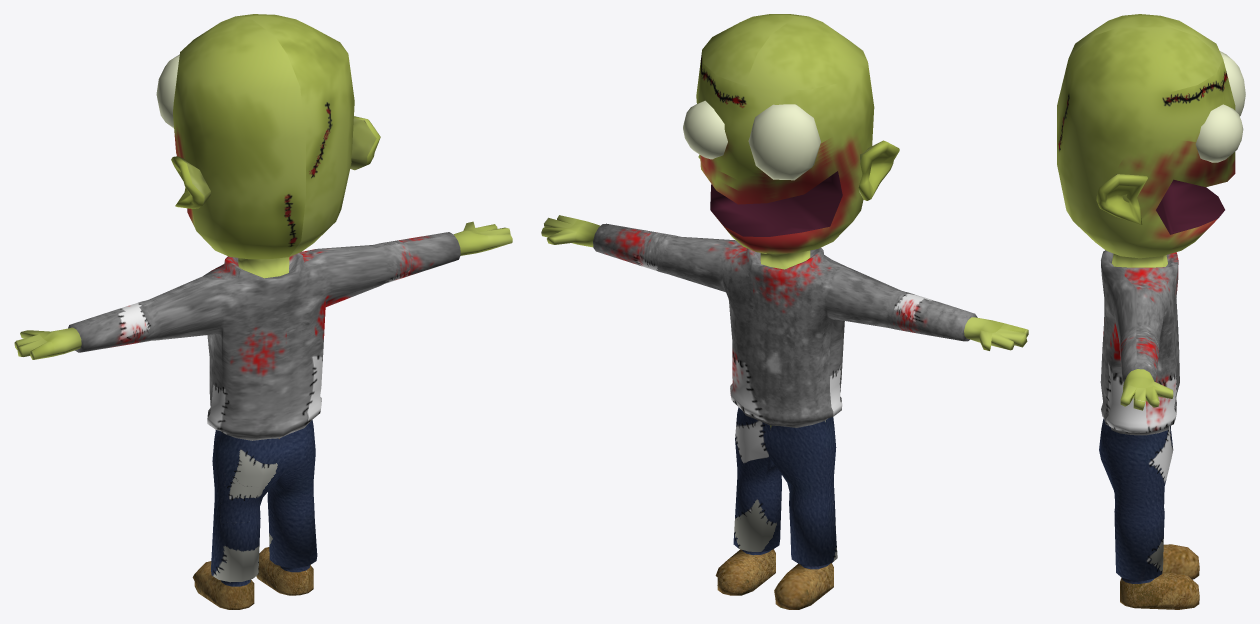
The model's file is Zombie_Biped_Backup.FBX.
The picture shows the model from 3 angles, left to right: view 1: azimuth 30°, elevation 25°; view 2: azimuth 150°, elevation 25°; view 3: azimuth 270°, elevation 25°; orthographic projection. The views are drawn at different scales.
Parts seen in each view (by area): view 1: Sphere.000; view 2: Sphere.000; view 3: Sphere.000.
Boxes of the visible parts, x1,y1,x2,y2 form: Sphere.000: [14, 14, 512, 609]; Sphere.000: [541, 14, 1028, 609]; Sphere.000: [1057, 14, 1245, 609].
Size of the model in its own units: 210 by 234 by 71.3.
1 material, 1 textured.
